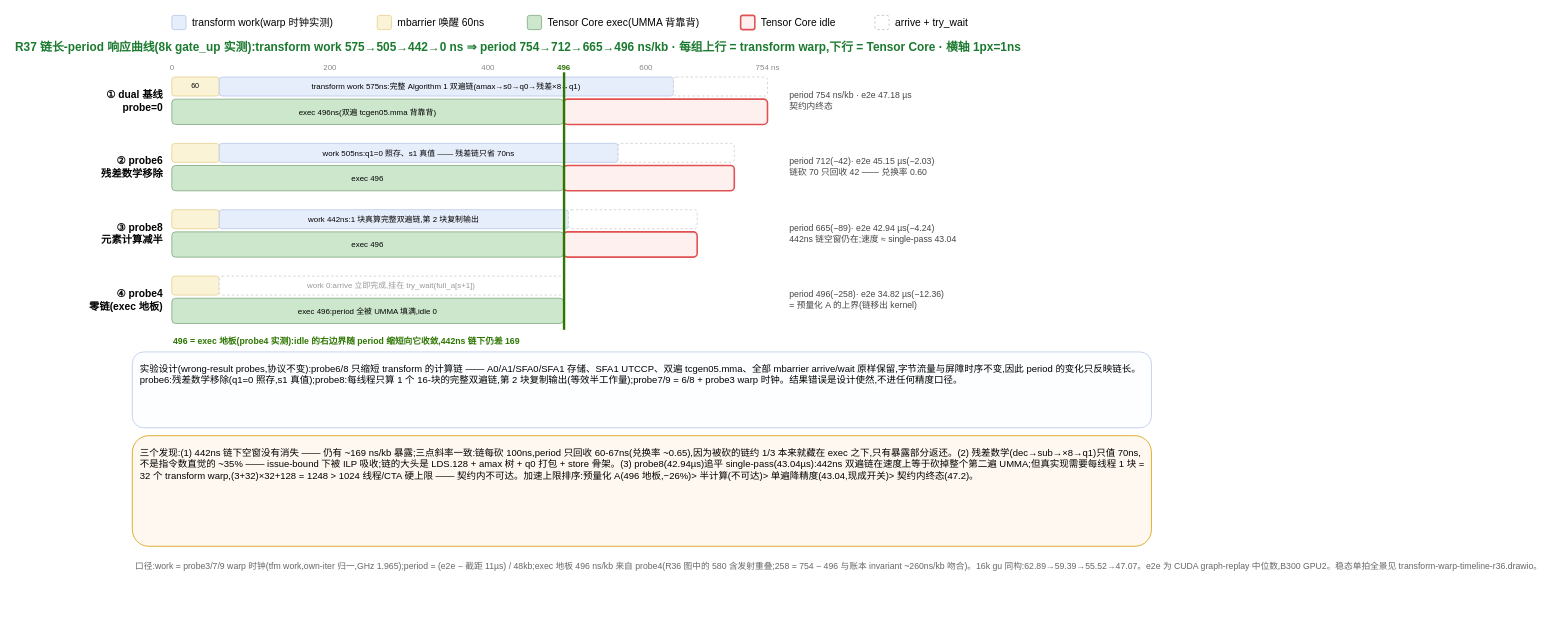
The diagram is 1556 pixels wide and 619 high, and some of its shapes have lost their labels. The shapes that lost their labels are listed below. From the top down, each one's centre as x and y in pixels, then its label:
At point (665, 111): "idle 258".
At point (648, 177): "idle 216".
At point (630, 244): "★idle 169★".
